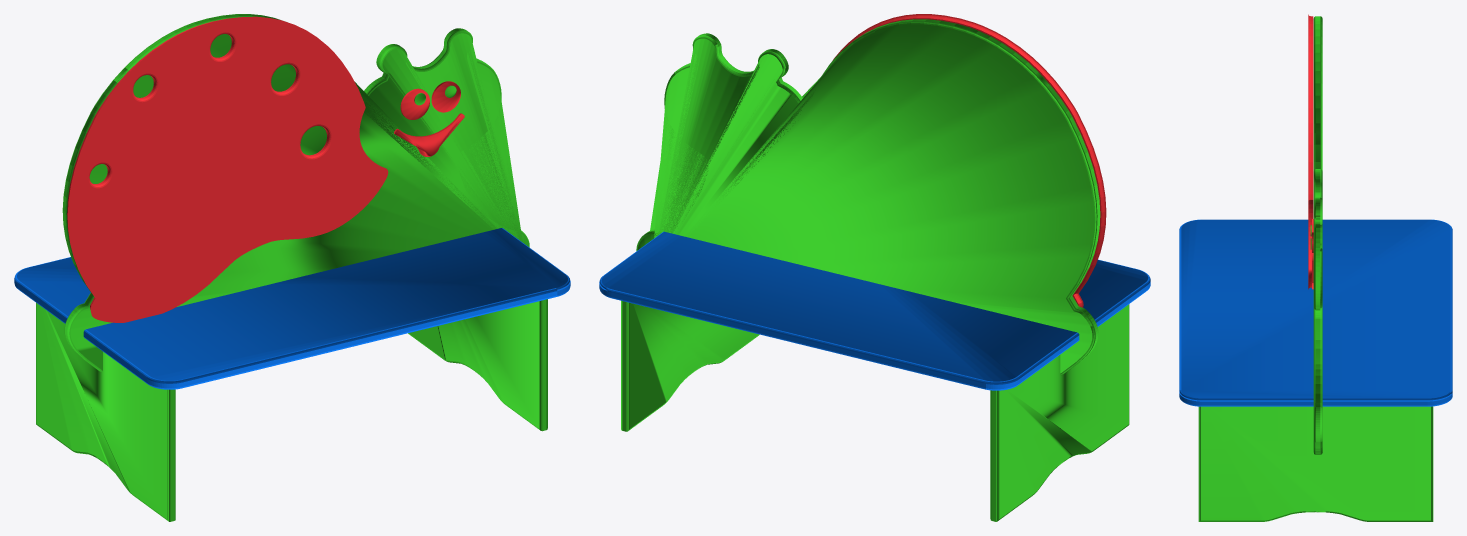
The picture shows the model from 3 angles, left to right: view 1: azimuth 30°, elevation 25°; view 2: azimuth 150°, elevation 25°; view 3: azimuth 270°, elevation 25°; orthographic projection. The views are drawn at different scales.
Parts seen in each view (by area): view 1: D_52; view 2: D_52; view 3: D_52.
Boxes of the visible parts, bbox=[...] form: D_52: bbox=[14, 14, 570, 521]; D_52: bbox=[599, 14, 1150, 521]; D_52: bbox=[1179, 14, 1452, 521].
Bounding box in the file's own units: 109 × 96.11 × 63.
